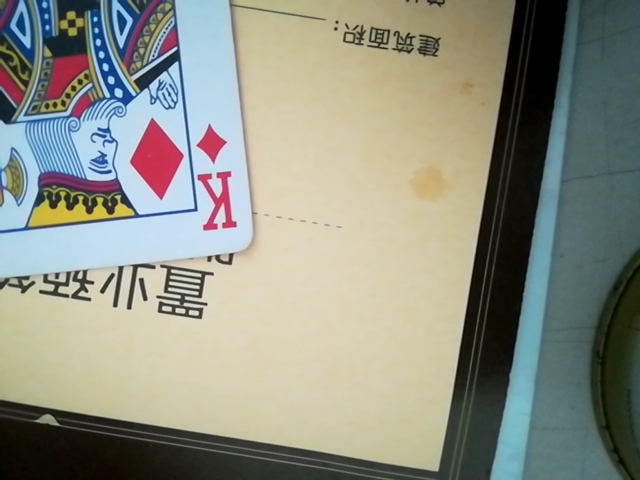fk k: (0, 0, 256, 283)
